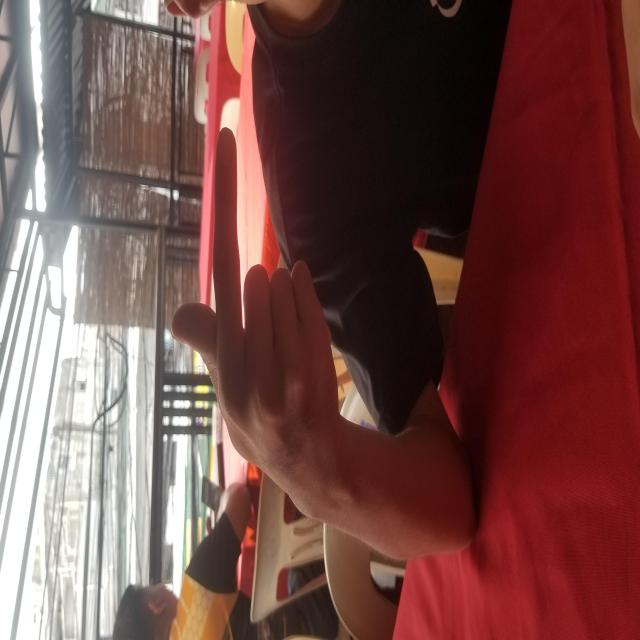G: (152, 168, 514, 340)
